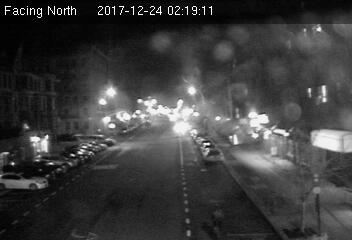car: (202, 147, 223, 162)
